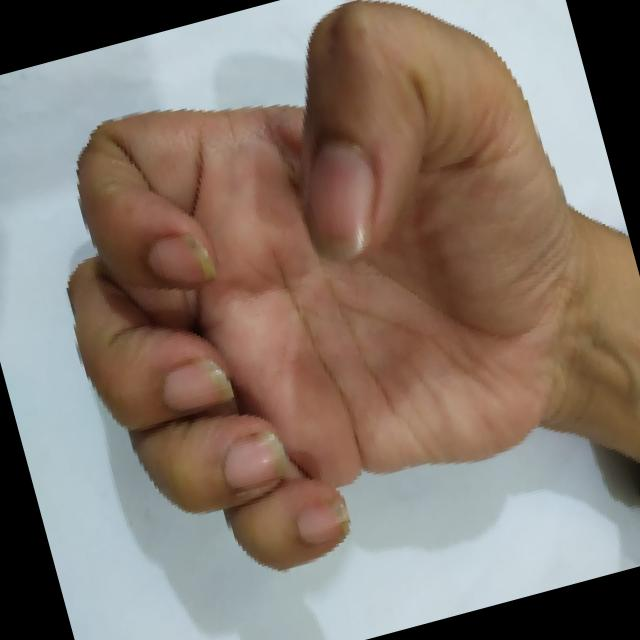Nail: (308, 140, 374, 260), (162, 358, 235, 411), (224, 430, 288, 489), (147, 234, 216, 284), (296, 501, 349, 544)
